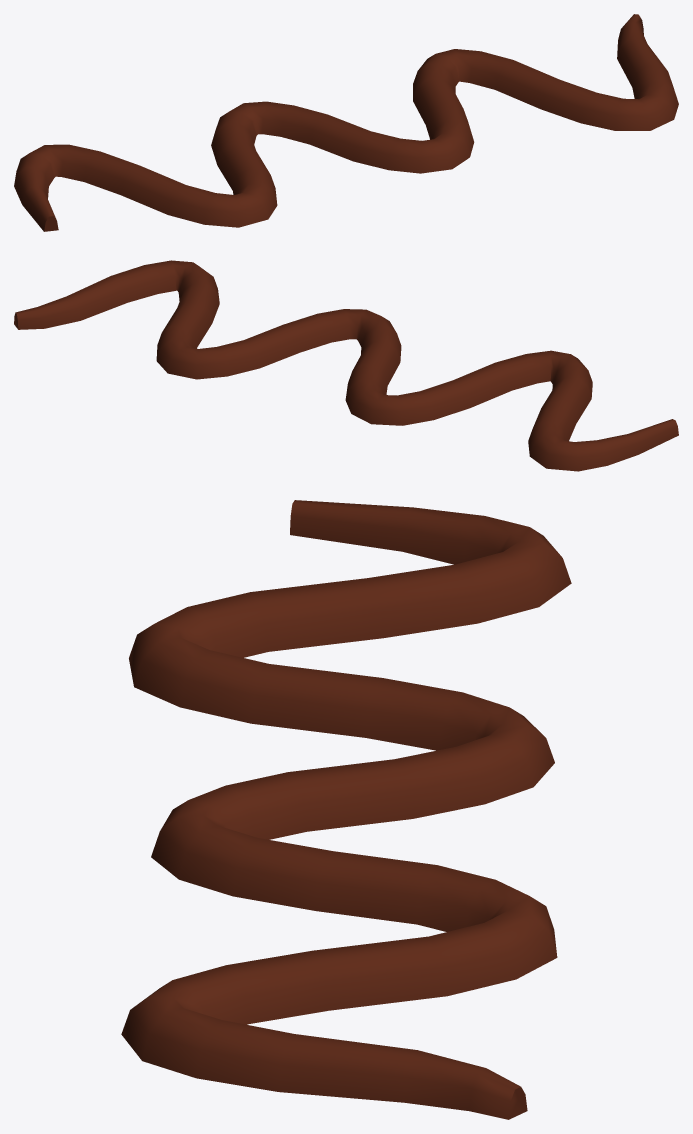
The model's file is Food_BBQSauce_Ribbon.fbx.
The picture shows the model from 3 angles, top to bottom: view 1: azimuth 30°, elevation 25°; view 2: azimuth 150°, elevation 25°; view 3: azimuth 270°, elevation 25°; orthographic projection. The views are drawn at different scales.
Visible parts, largest first — view 1: Sauce; view 2: Sauce; view 3: Sauce.
Boxes of the visible parts, x1,y1,x2,y2 form: Sauce: (14, 14, 678, 231); Sauce: (14, 260, 678, 471); Sauce: (121, 500, 571, 1119).
Bounding box in the file's own units: 203 × 6.94 × 64.81.
